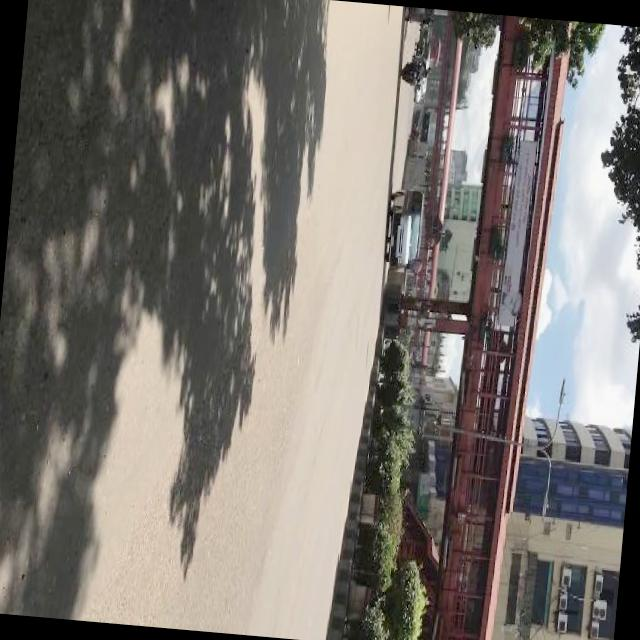bus: (427, 37, 441, 70)
motorcycle: (398, 54, 432, 90)
truck: (382, 186, 425, 272)
